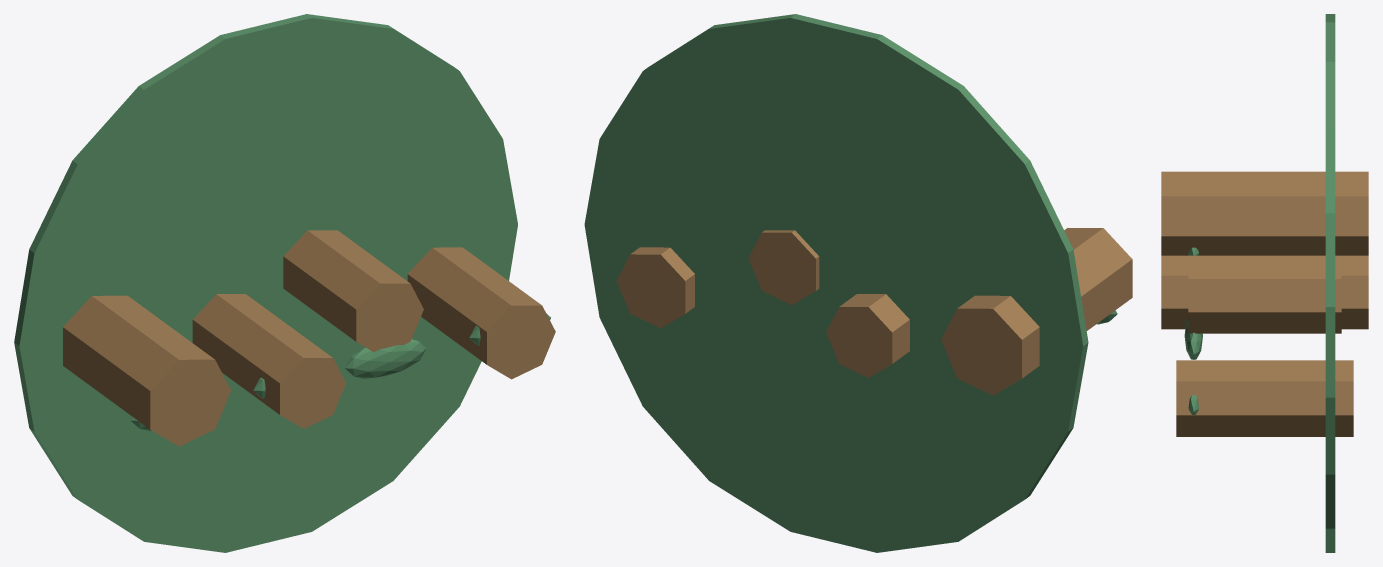
The model's file is 02_local_prop_cluster.glb.
3 views of the same model, side by side, from view 1: azimuth 30°, elevation 25°; view 2: azimuth 150°, elevation 25°; view 3: azimuth 270°, elevation 25° (orthographic). The views are drawn at different scales.
Parts seen in each view (by area): view 1: scatter_base, root_stump_0, root_stump_1, root_stump_3, root_stump_2, moss_2; view 2: scatter_base, root_stump_0, root_stump_1, root_stump_3, root_stump_2; view 3: root_stump_0, root_stump_3, root_stump_2, scatter_base, root_stump_1, moss_2.
Boxes of the visible parts, bbox=[...] form: scatter_base: bbox=[14, 14, 517, 552]; root_stump_0: bbox=[63, 295, 231, 446]; root_stump_1: bbox=[192, 294, 346, 428]; root_stump_3: bbox=[407, 247, 555, 379]; root_stump_2: bbox=[283, 230, 423, 351]; moss_2: bbox=[344, 339, 426, 378]; scatter_base: bbox=[584, 14, 1088, 552]; root_stump_0: bbox=[941, 228, 1132, 395]; root_stump_1: bbox=[826, 294, 909, 377]; root_stump_3: bbox=[616, 247, 694, 328]; root_stump_2: bbox=[748, 230, 819, 304]; root_stump_0: bbox=[1161, 171, 1368, 255]; root_stump_3: bbox=[1176, 360, 1353, 436]; root_stump_2: bbox=[1188, 258, 1341, 333]; scatter_base: bbox=[1325, 14, 1335, 552]; root_stump_1: bbox=[1161, 255, 1368, 329]; moss_2: bbox=[1184, 318, 1202, 359].
Bounding box in the file's own units: 1.9 × 1.87 × 0.7287.
